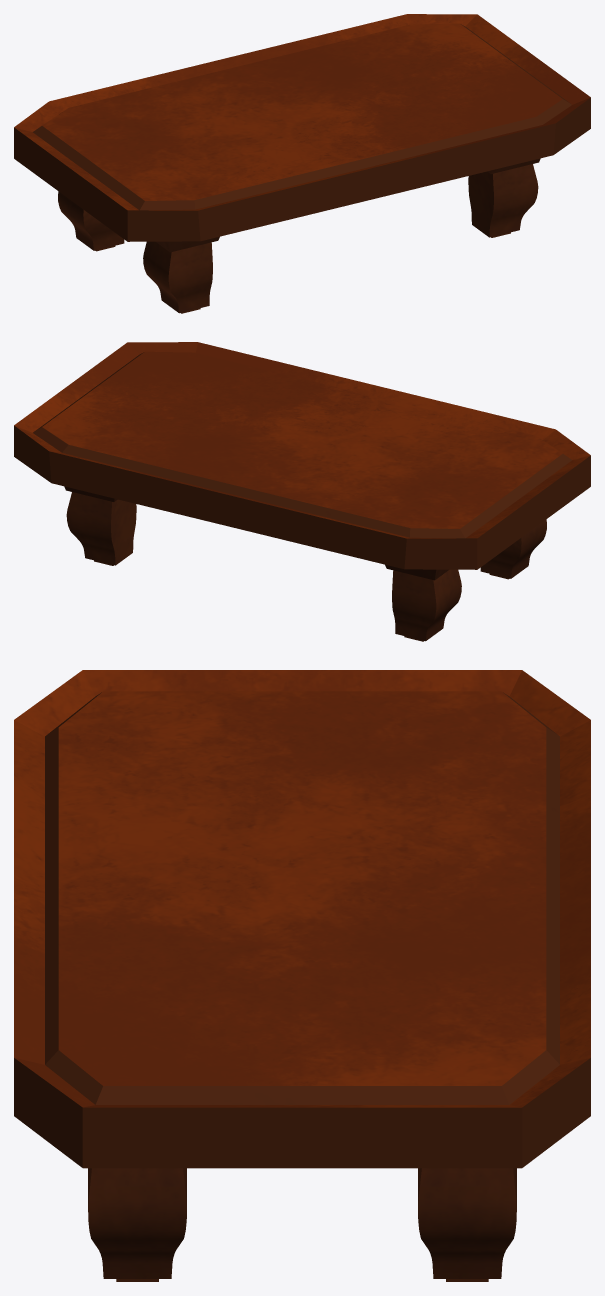
File: 엔틱 테이블.fbx
The picture shows the model from 3 angles, top to bottom: view 1: azimuth 30°, elevation 25°; view 2: azimuth 150°, elevation 25°; view 3: azimuth 270°, elevation 25°; orthographic projection. The views are drawn at different scales.
Parts seen in each view (by area): view 1: Cube.005; view 2: Cube.005; view 3: Cube.005.
Boxes of the visible parts, x1,y1,x2,y2 form: Cube.005: (14, 14, 590, 313); Cube.005: (14, 342, 590, 641); Cube.005: (14, 670, 590, 1281).
Bounding box in the file's own units: 1651 × 426 × 920.
1 material, 1 textured.
